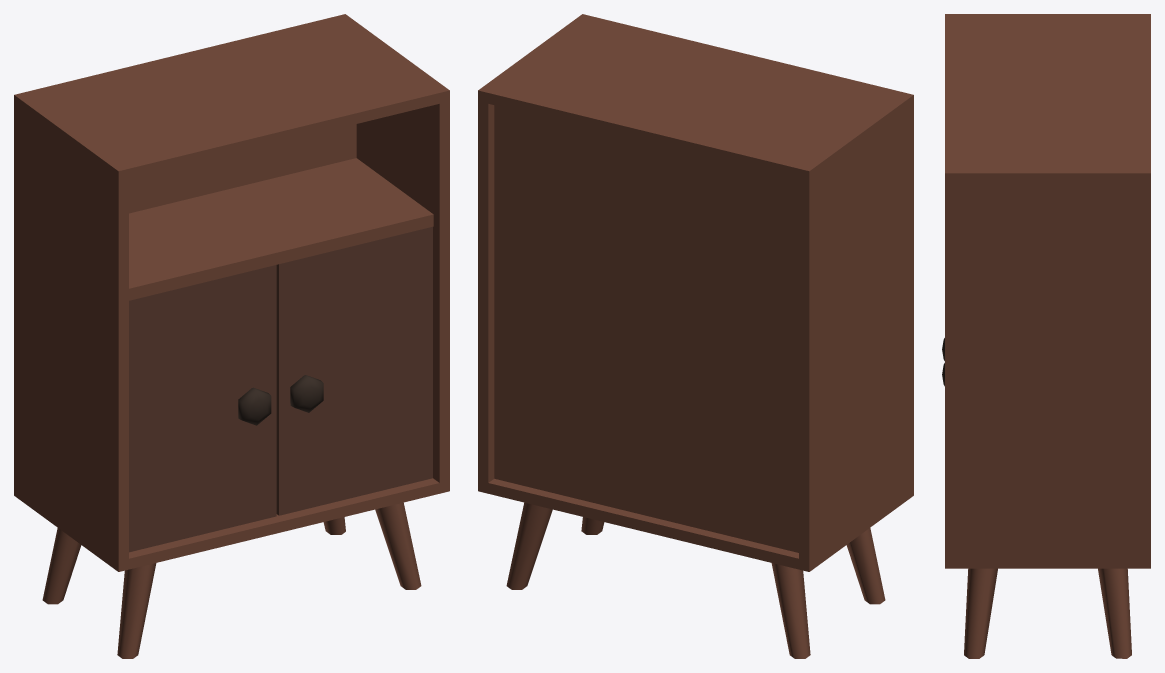
Rendered from Cupboard_02.fbx.
3 renders of one model, left to right at view 1: azimuth 30°, elevation 25°; view 2: azimuth 150°, elevation 25°; view 3: azimuth 270°, elevation 25°, orthographic.
Visible parts, largest first — view 1: Cupboard_02, Cupboard_02_Door_R, Cupboard_02_Door_L; view 2: Cupboard_02; view 3: Cupboard_02.
Boxes of the visible parts, x1,y1,x2,y2 form: Cupboard_02: [14, 14, 449, 658]; Cupboard_02_Door_R: [276, 226, 432, 515]; Cupboard_02_Door_L: [129, 265, 276, 552]; Cupboard_02: [478, 14, 913, 658]; Cupboard_02: [945, 14, 1150, 658].
Bounding box in the file's own units: 0.8524 × 1.23 × 0.4722.
